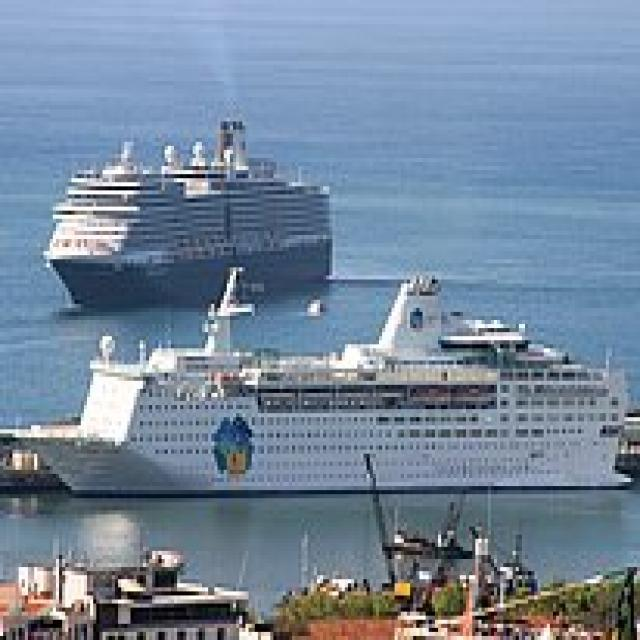Ship: (10, 265, 638, 512), (32, 102, 346, 321)
